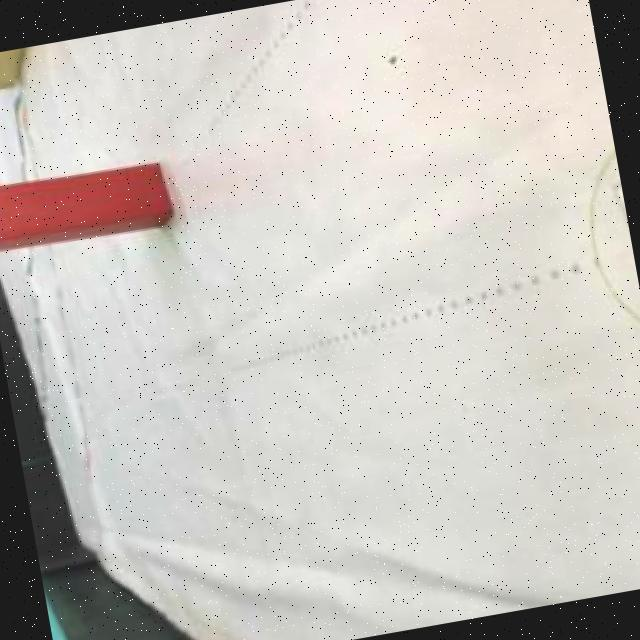redbox: (0, 155, 173, 259)
